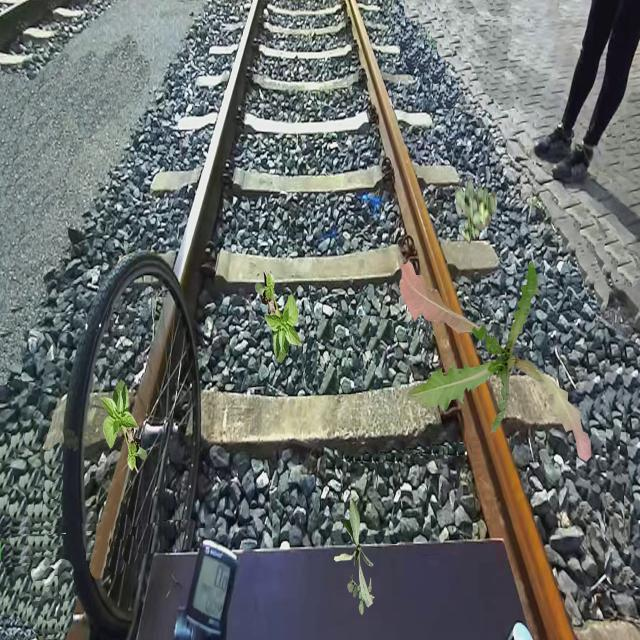Plant: (399, 260, 592, 462), (255, 269, 303, 364), (100, 379, 148, 474), (334, 498, 374, 608), (454, 178, 498, 244), (347, 574, 374, 615)
